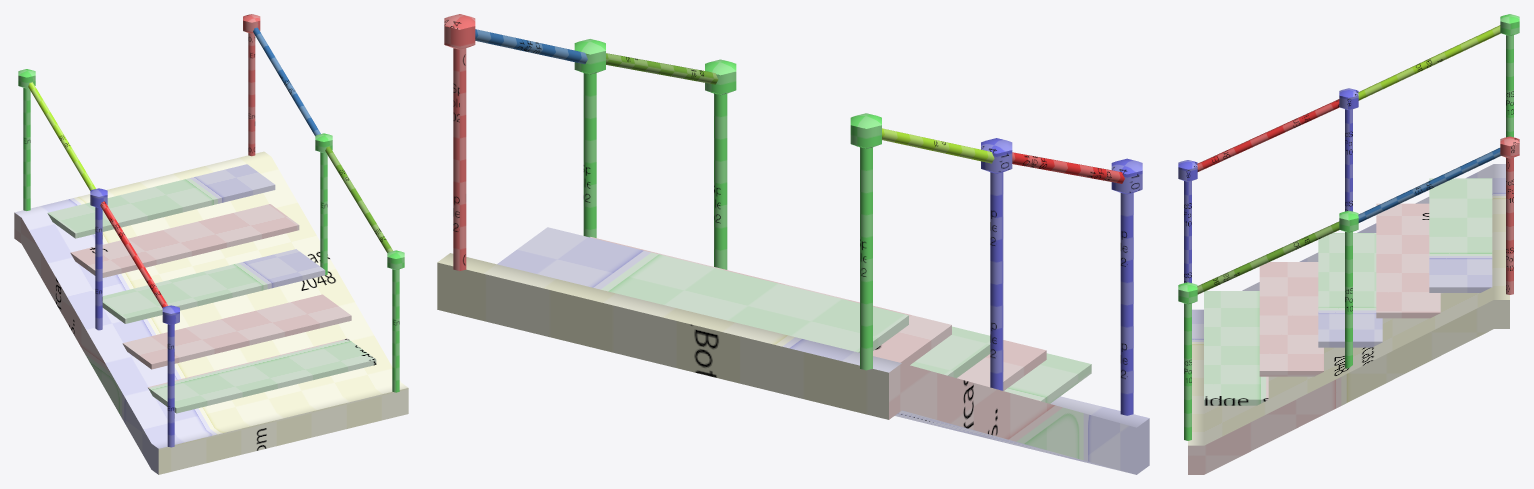
The model's file is bridge_staircase.fbx.
The picture shows the model from 3 angles, left to right: view 1: azimuth 30°, elevation 25°; view 2: azimuth 150°, elevation 25°; view 3: azimuth 270°, elevation 25°; orthographic projection. The views are drawn at different scales.
Parts seen in each view (by area): view 1: bridge_staircase, Pole_B4, Pole_C3, Pole_C2, Pole_B3, Pole_A2, Pole_B2, Rail_A1, Rail_D1, Rail_B1, Rail_C1; view 2: bridge_staircase, Pole_A2, Pole_C3, Pole_C2, Pole_B3, Pole_B4, Pole_B2, Rail_C1, Rail_A1, Rail_B1, Rail_D1; view 3: bridge_staircase, Pole_A2, Pole_B4, Pole_B2, Rail_D1, Rail_A1, Rail_B1, Rail_C1, Pole_C2, Pole_B3, Pole_C3.
Boxes of the visible parts, x1,y1,x2,y2 form: bridge_staircase: (14, 151, 408, 474); Pole_B4: (387, 250, 404, 392); Pole_C3: (162, 305, 179, 447); Pole_C2: (90, 188, 107, 330); Pole_B3: (18, 69, 35, 210); Pole_A2: (243, 14, 260, 156); Pole_B2: (315, 133, 332, 275); Rail_A1: (253, 27, 320, 135); Rail_D1: (28, 82, 95, 190); Rail_B1: (325, 146, 392, 252); Rail_C1: (100, 201, 168, 307); bridge_staircase: (437, 227, 1149, 474); Pole_A2: (444, 14, 475, 270); Pole_C3: (1111, 158, 1142, 415); Pole_C2: (981, 138, 1012, 390); Pole_B3: (850, 113, 881, 370); Pole_B4: (705, 59, 736, 269); Pole_B2: (574, 39, 605, 237); Rail_C1: (1012, 152, 1124, 183); Rail_A1: (475, 29, 587, 64); Rail_B1: (606, 53, 718, 84); Rail_D1: (882, 128, 994, 163); bridge_staircase: (1188, 164, 1509, 474); Pole_A2: (1500, 136, 1519, 294); Pole_B4: (1178, 282, 1197, 440); Pole_B2: (1339, 210, 1358, 368); Rail_D1: (1358, 25, 1500, 100); Rail_A1: (1358, 148, 1500, 222); Rail_B1: (1197, 221, 1339, 294); Rail_C1: (1197, 99, 1339, 171); Pole_C2: (1339, 88, 1358, 211); Pole_B3: (1500, 14, 1519, 137); Pole_C3: (1178, 160, 1197, 282).
Size of the model in its own units: 200 by 226 by 212.
